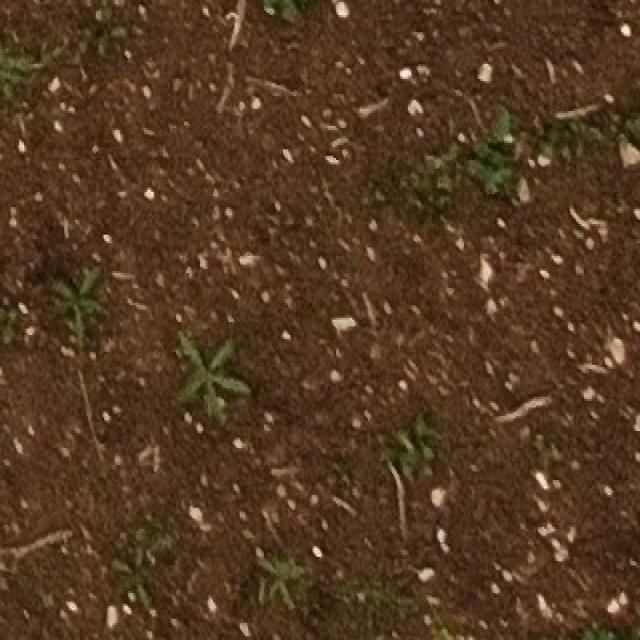cirse: (168, 340, 250, 438), (177, 337, 255, 435), (174, 320, 252, 416), (49, 284, 116, 361), (50, 281, 113, 358), (48, 279, 112, 354), (111, 517, 168, 594), (104, 527, 162, 602), (110, 553, 166, 627), (250, 532, 301, 598), (266, 573, 319, 635), (263, 575, 313, 640)
